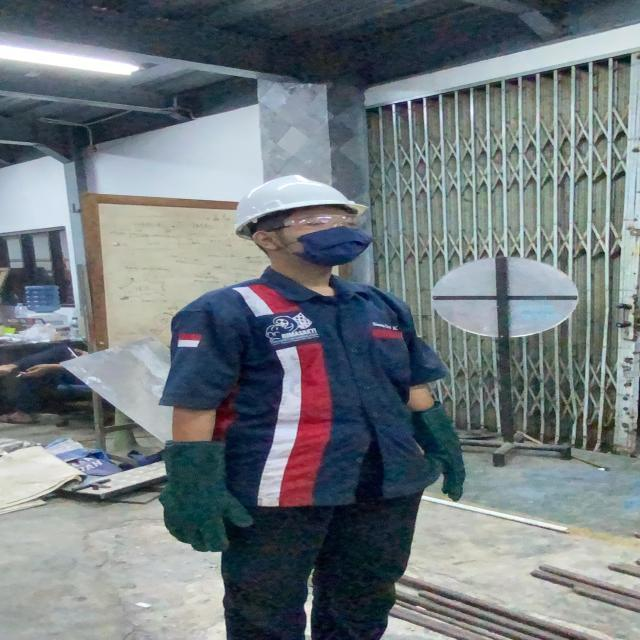glasses: (260, 208, 362, 233)
